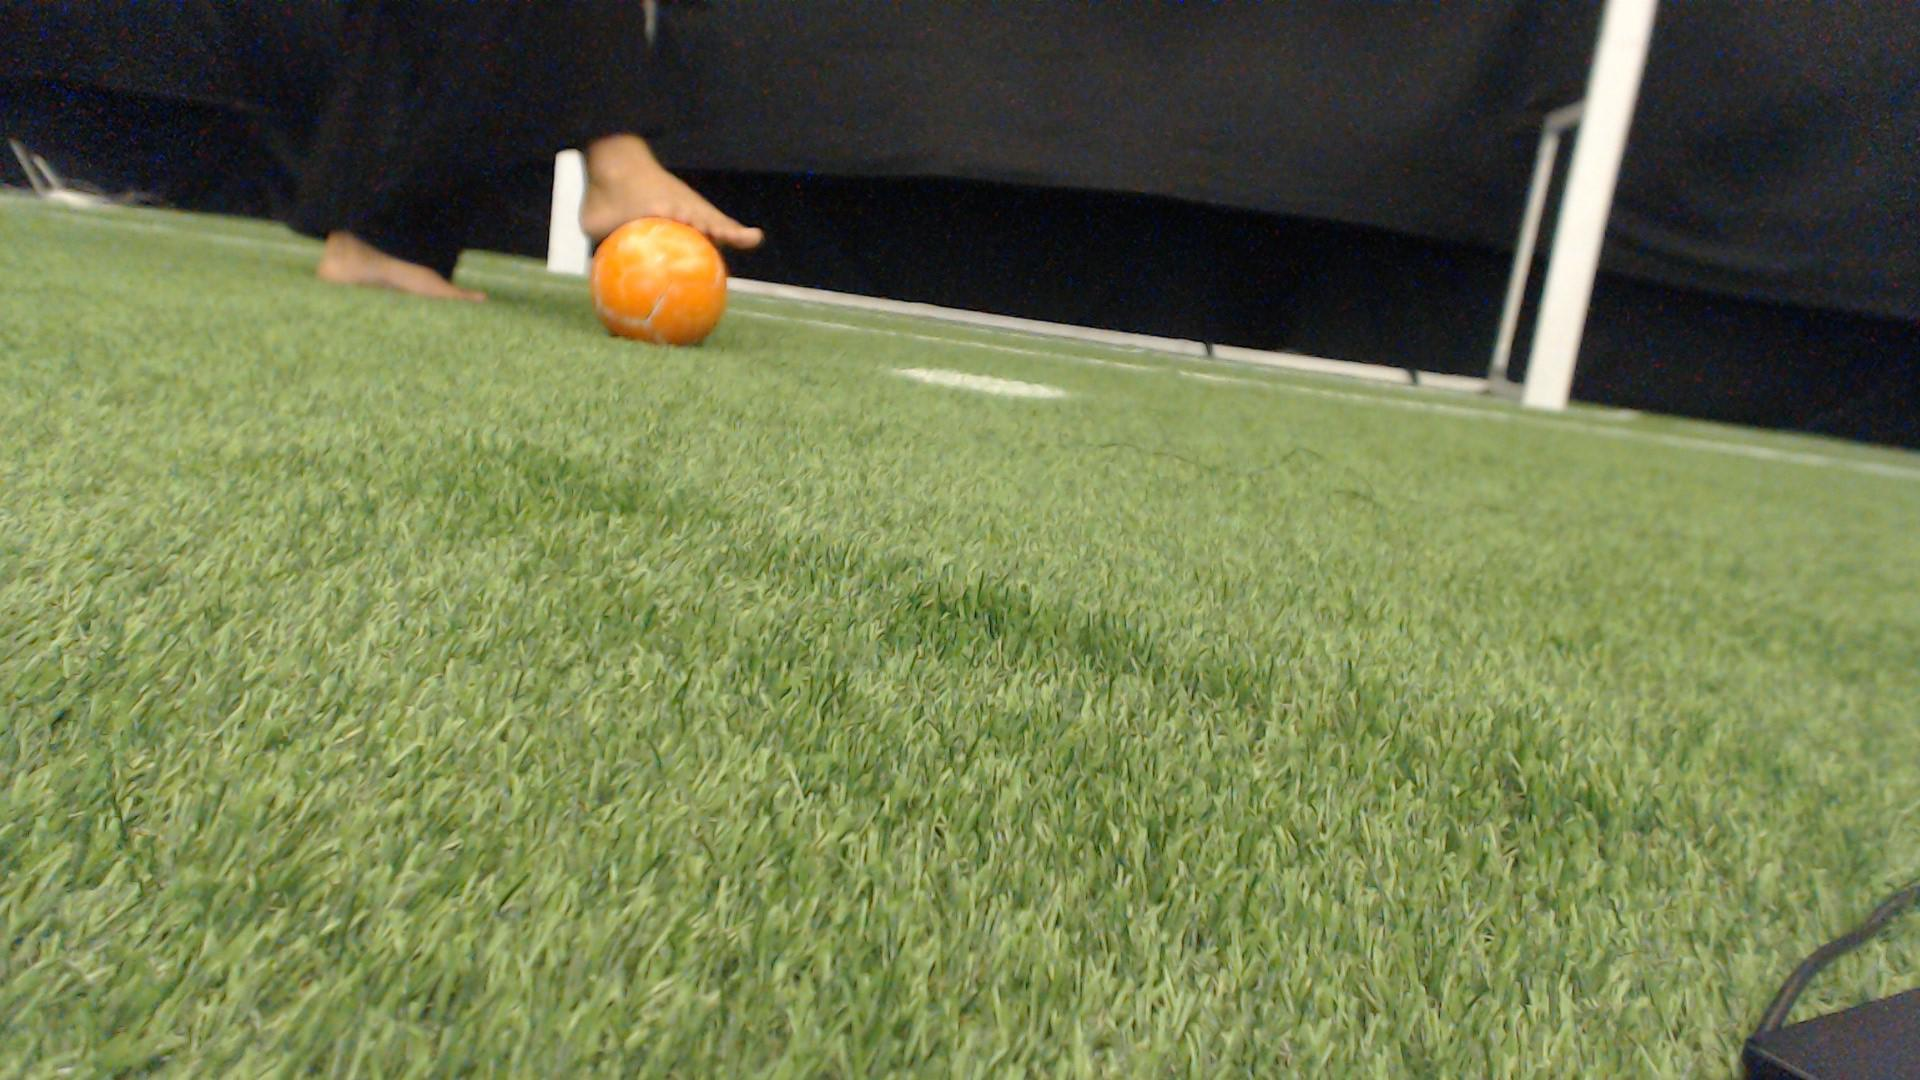bola: (588, 222, 736, 345)
